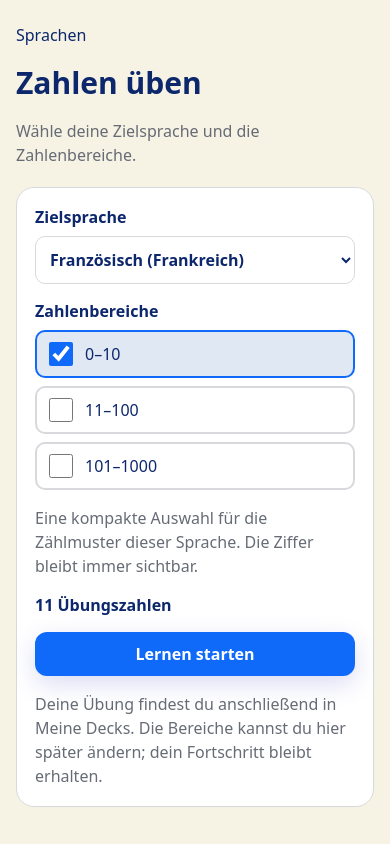
Test case: number practice setup › omits an ineffective exhaustive toggle when the language needs all small words
The image size is (390, 844).
Expected: the button "Lernen starten" is enabled, x1=35 y1=632 x2=355 y2=676
Select "hi-IN" in the dropdown labelled "Zielsprache" at (195, 260), box x1=35 y1=236 x2=355 y2=284
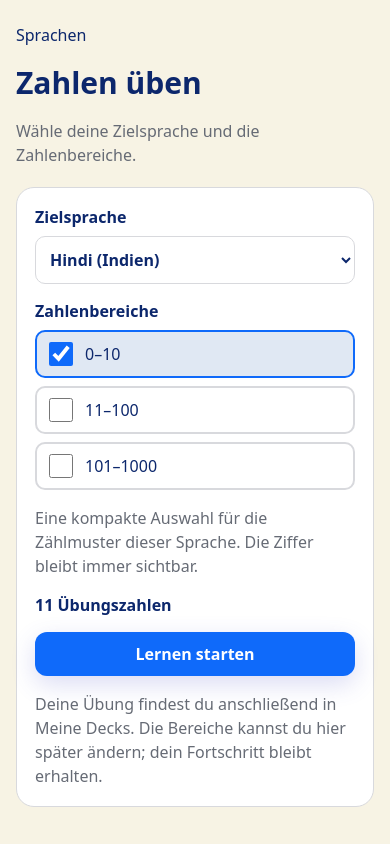
Expected: the button "Lernen starten" is enabled, x1=35 y1=632 x2=355 y2=676
Click the checkbox labelled "11–100".
click(61, 410)  # box x1=49 y1=398 x2=73 y2=422
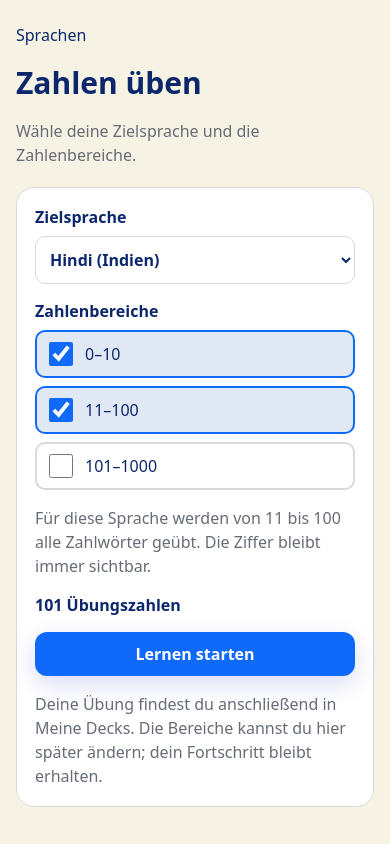
Result: the message reads "101 Übungszahlen" at x1=35 y1=594 x2=181 y2=616
Result: the text "alle Zahlwörter geübt" is shown at x1=35 y1=507 x2=341 y2=577
